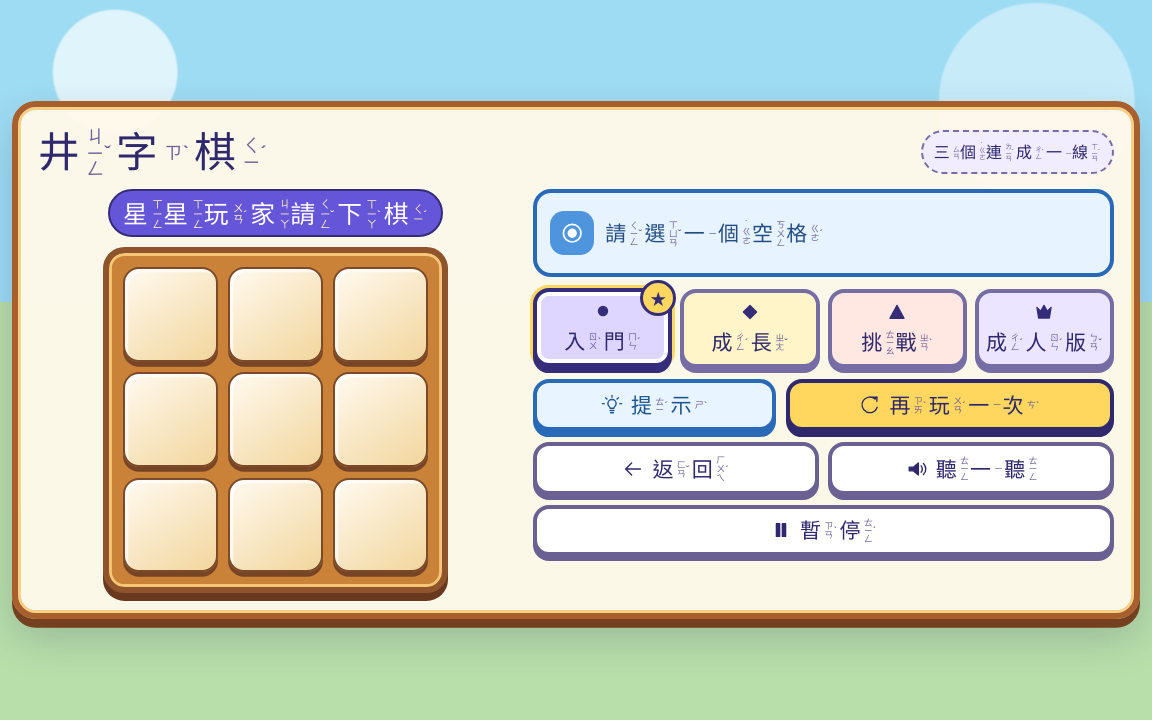
Test: ART-005-r03 井字棋正式可玩流程 › 同機雙人由星星與月亮輪流操作，不呼叫 NPC
Click the button with aria-label "成人版": [1044, 328] box [975,289,1114,368]
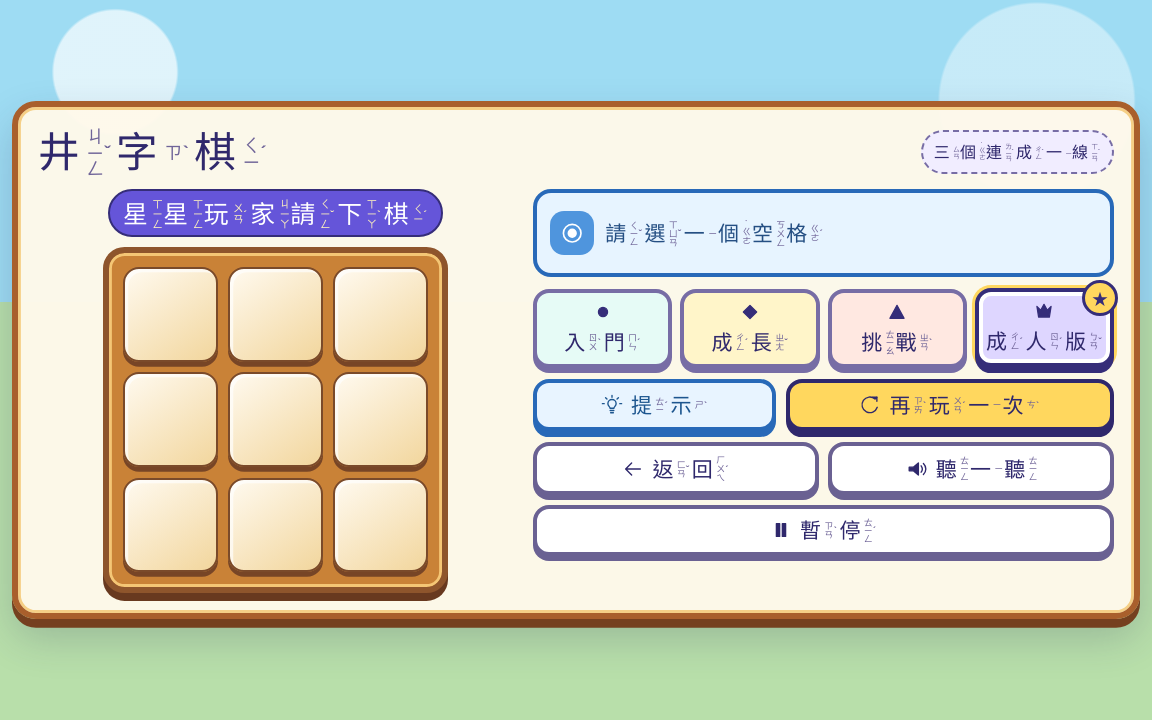
expect the button with aria-label "成人版" is pressed: met, box [975,288,1114,367]
Click the 1st cell named "空格": [171, 315] box [123,267,218,362]
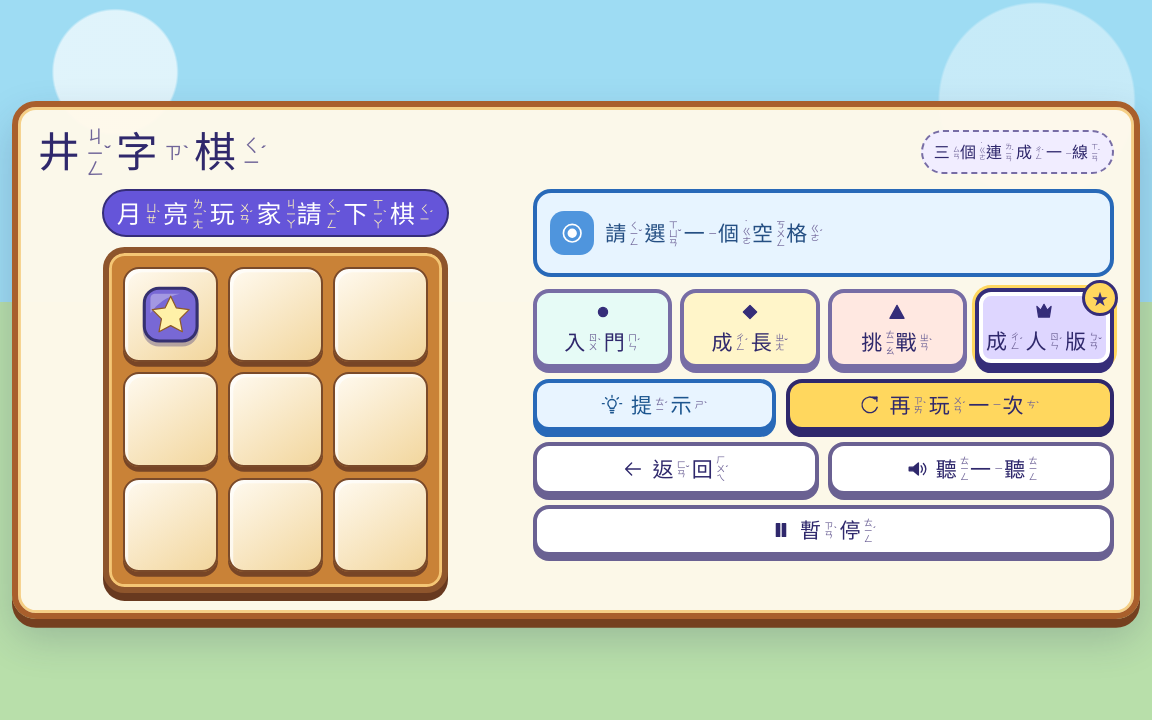
expect the message named "月亮玩家請下棋" is shown: met, box [102,189,449,237]
Click the 1st cell named "空格": [276, 315] box [228,267,323,362]
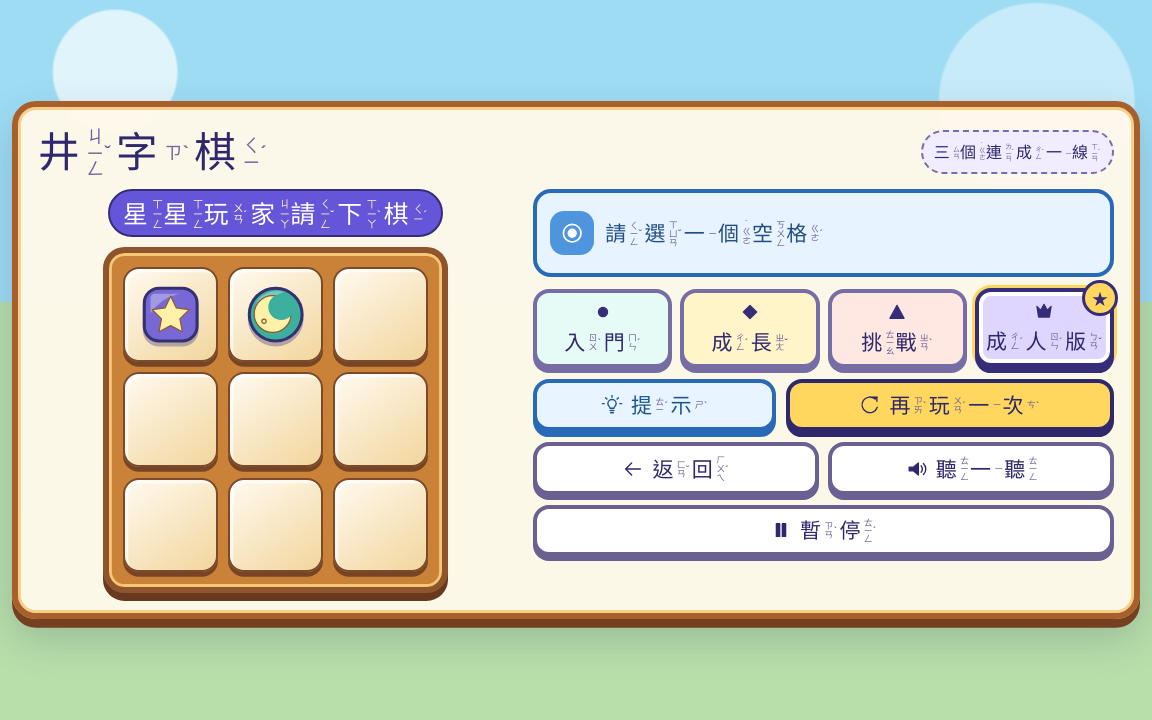
expect the message named "星星玩家請下棋" is shown: met, box [108,189,443,237]
